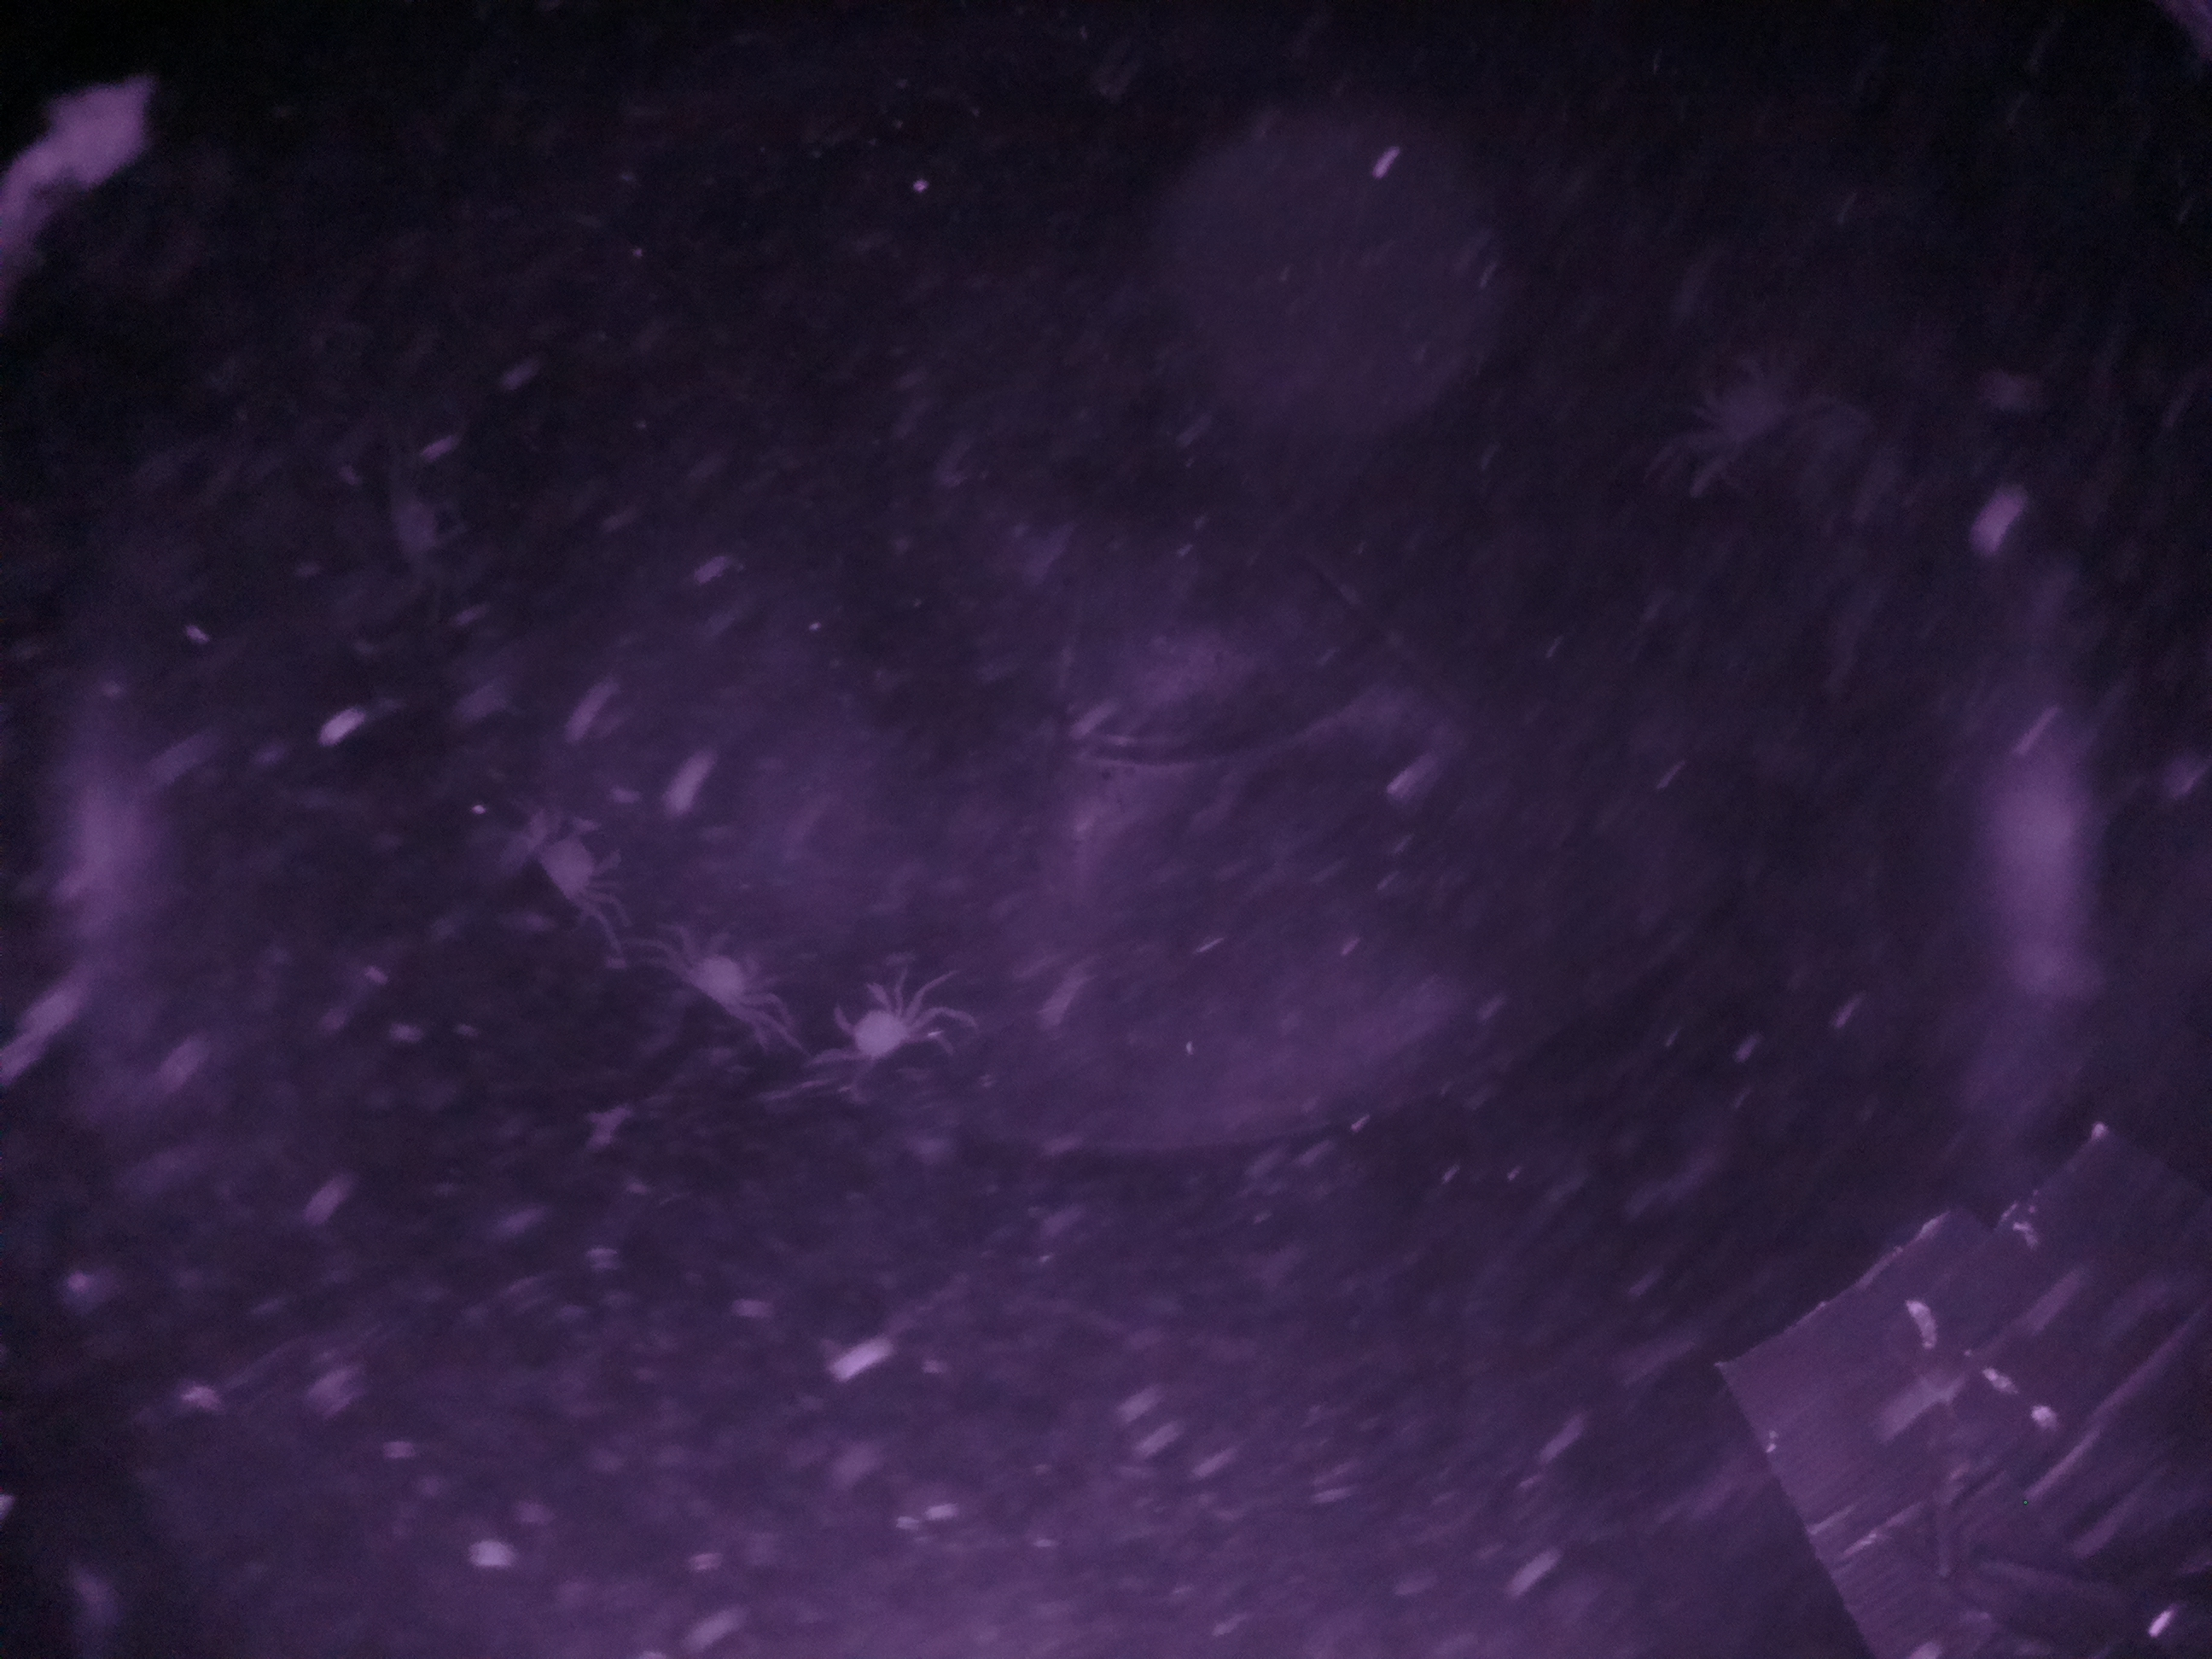Crab: (514, 791, 644, 927), (824, 960, 928, 1089), (664, 920, 775, 1035)
